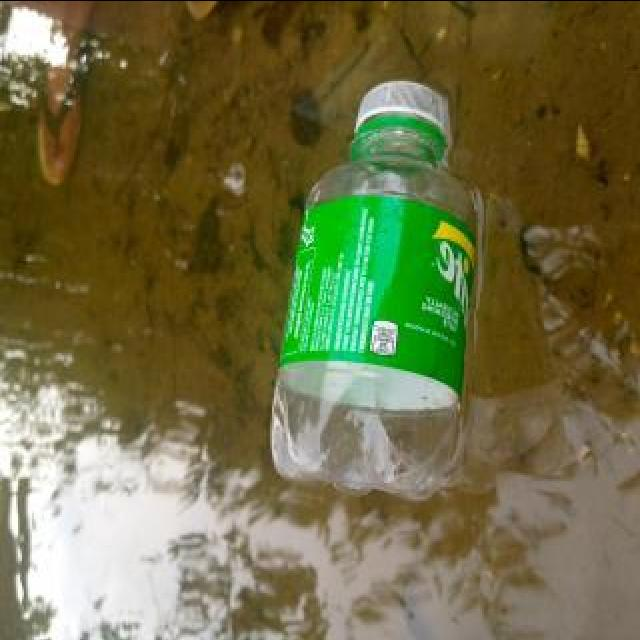Bottle: (268, 76, 488, 501)
